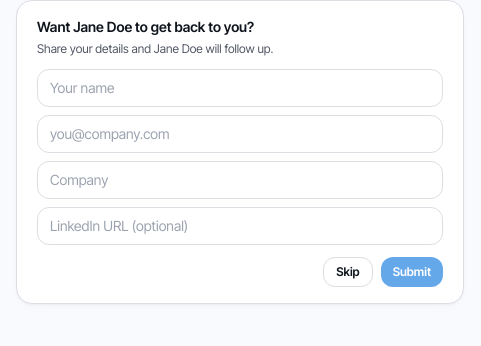
Scenario: LeadCaptureCard › renders an error message and stays editable on 4xx server response
The image size is (481, 346).
Step 1. Type "Rec Ruiter" into the field labelled "Your name" → (240, 88), box top-left (37, 69), bottom-right (443, 107)
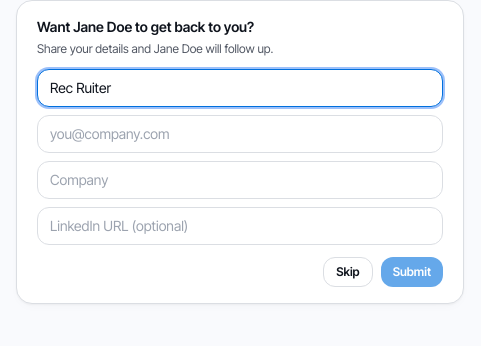
Step 2. Type "rec@example.com" into the field named "email address" → (240, 134), box top-left (37, 115), bottom-right (443, 153)
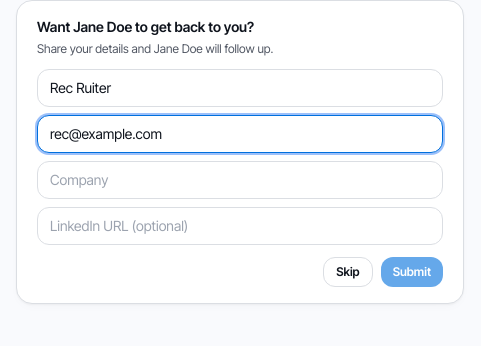
Step 3. Type "Acme Inc" into the field labelled "Company" → (240, 180), box top-left (37, 161), bottom-right (443, 199)
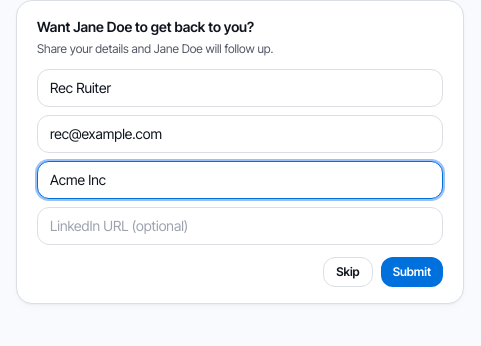
Step 4. Click the button "Submit" → (412, 272), box top-left (381, 257), bottom-right (443, 287)
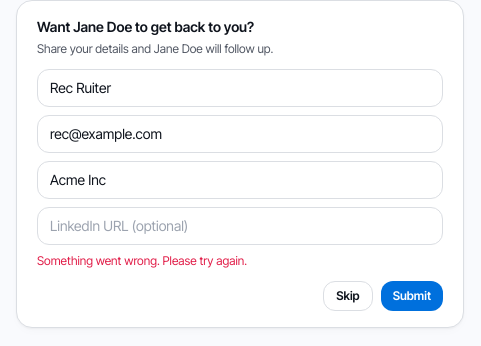
Expected: the button "Submit" is enabled, top-left (381, 281), bottom-right (443, 311)
Expected: the message shows "Something went wrong", top-left (37, 253), bottom-right (247, 268)
